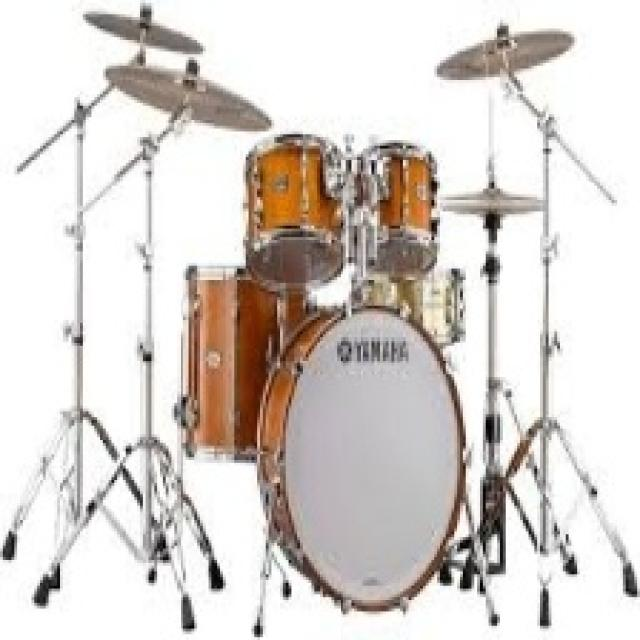drums: (21, 0, 618, 617)
